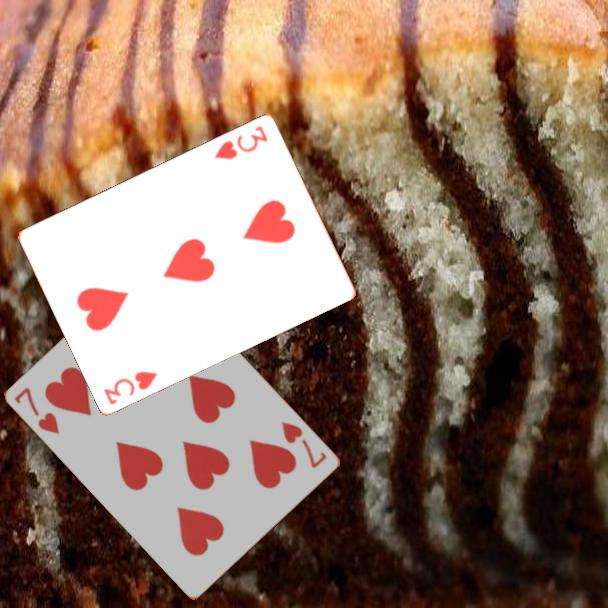h03: (211, 122, 271, 162), (100, 367, 160, 407)
h07: (278, 418, 330, 471), (11, 384, 63, 437)
